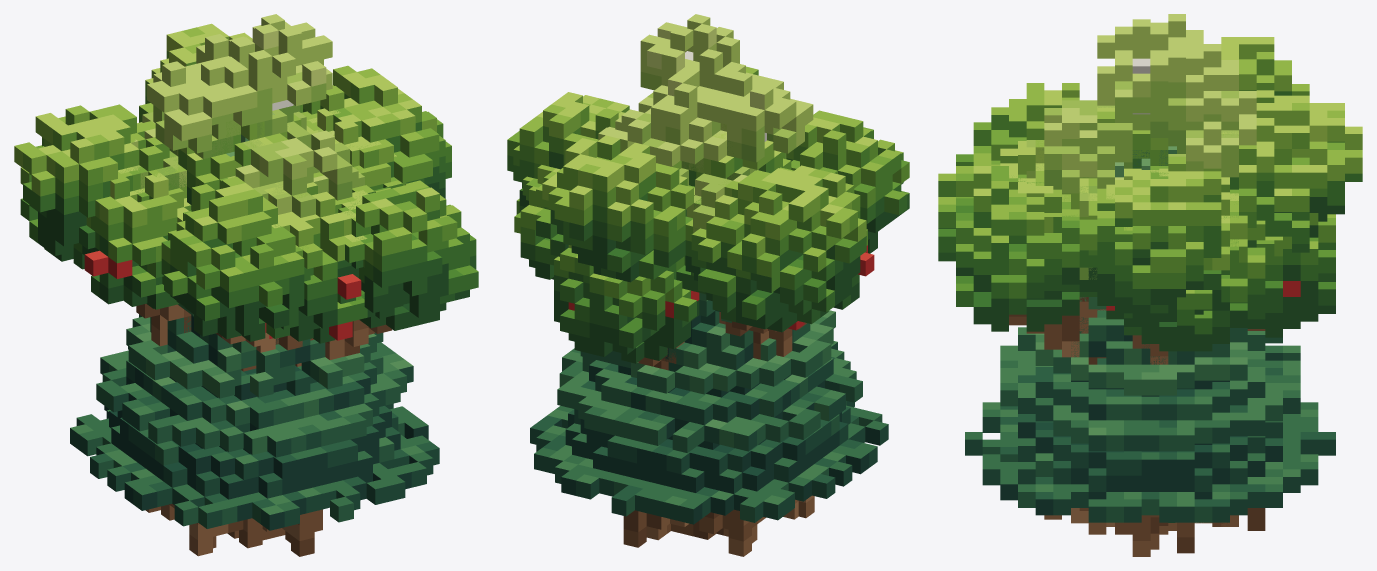
Rendered from PPTrees.fbx.
The picture shows the model from 3 angles, left to right: view 1: azimuth 30°, elevation 25°; view 2: azimuth 150°, elevation 25°; view 3: azimuth 270°, elevation 25°; orthographic projection. The views are drawn at different scales.
Visible parts, largest first — view 1: PP_Tree_Oak, PP_Tree_Pine, PP_Tree_Birch, PP_Tree_Apple; view 2: PP_Tree_Oak, PP_Tree_Pine, PP_Tree_Birch, PP_Tree_Apple; view 3: PP_Tree_Oak, PP_Tree_Pine, PP_Tree_Birch, PP_Tree_Apple.
Boxes of the visible parts, <box> form: PP_Tree_Oak: <box>14,23,478,556</box>; PP_Tree_Pine: <box>70,112,439,548</box>; PP_Tree_Birch: <box>131,14,364,217</box>; PP_Tree_Apple: <box>73,108,405,548</box>; PP_Tree_Oak: <box>507,66,909,543</box>; PP_Tree_Pine: <box>530,292,888,536</box>; PP_Tree_Birch: <box>598,14,813,233</box>; PP_Tree_Apple: <box>514,158,874,556</box>; PP_Tree_Oak: <box>938,37,1362,556</box>; PP_Tree_Pine: <box>965,146,1335,549</box>; PP_Tree_Birch: <box>1026,14,1256,522</box>; PP_Tree_Apple: <box>991,140,1335,553</box>.
Bounding box in the file's own units: 1250 × 1550 × 1200.
1 material, 1 textured.
